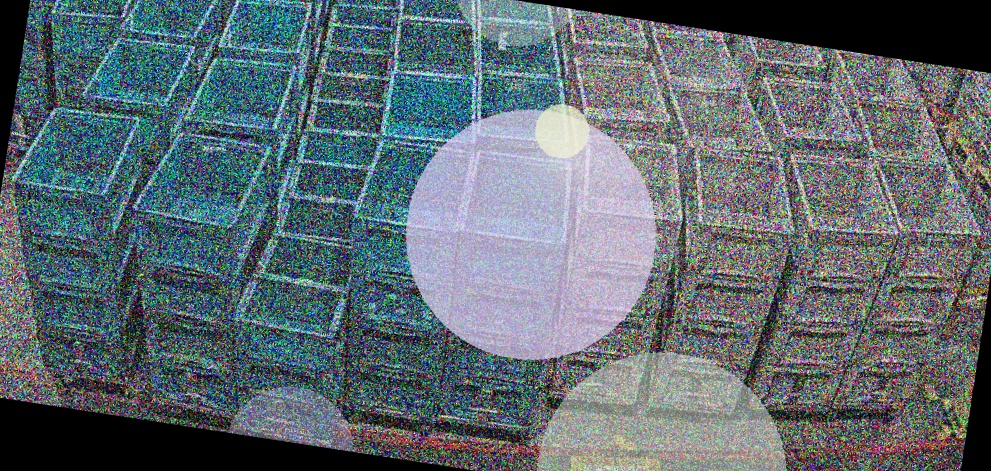4G: (744, 144, 911, 423), (644, 141, 808, 422), (830, 150, 991, 428), (544, 130, 696, 412)
B4: (102, 124, 288, 416), (0, 101, 174, 385), (322, 132, 478, 421), (429, 145, 579, 432), (34, 0, 145, 117)
B8: (216, 228, 369, 444)
